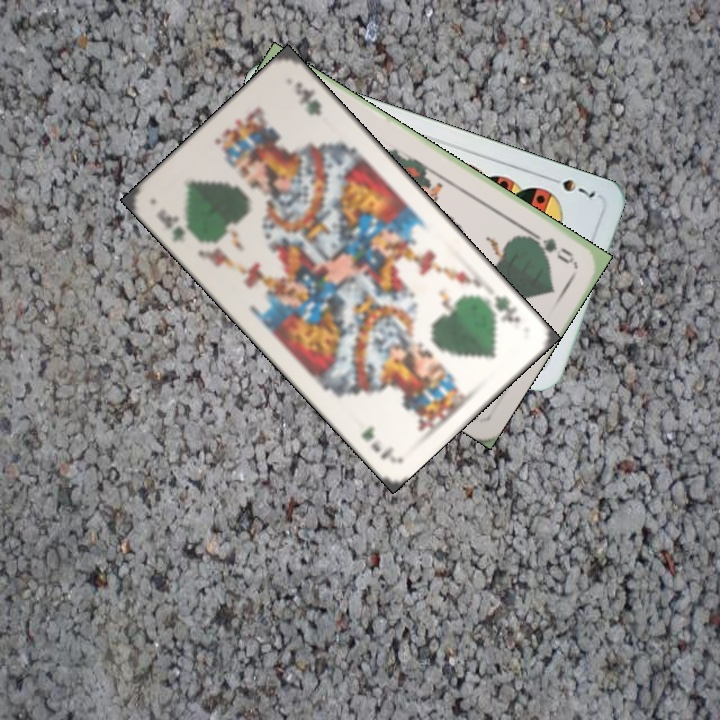GK: (153, 205, 188, 245), (489, 291, 523, 326)
GO: (523, 227, 578, 267)
S7: (543, 172, 598, 201)
